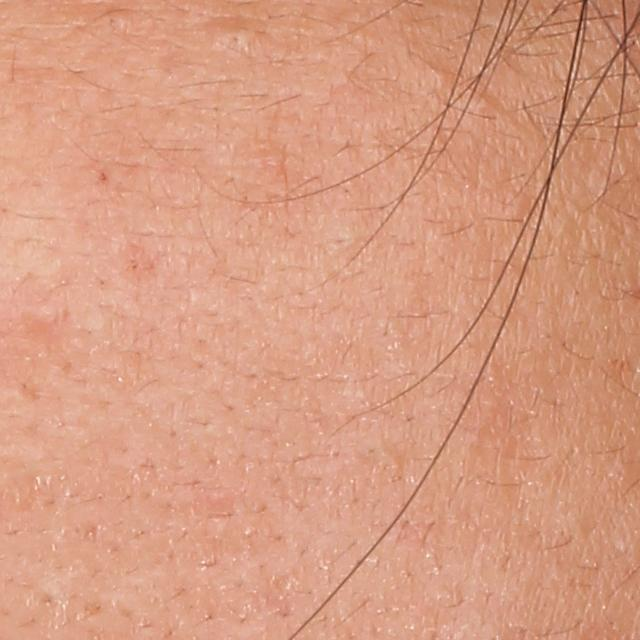comedo: (201, 21, 267, 60), (111, 10, 136, 34), (430, 67, 452, 89)
